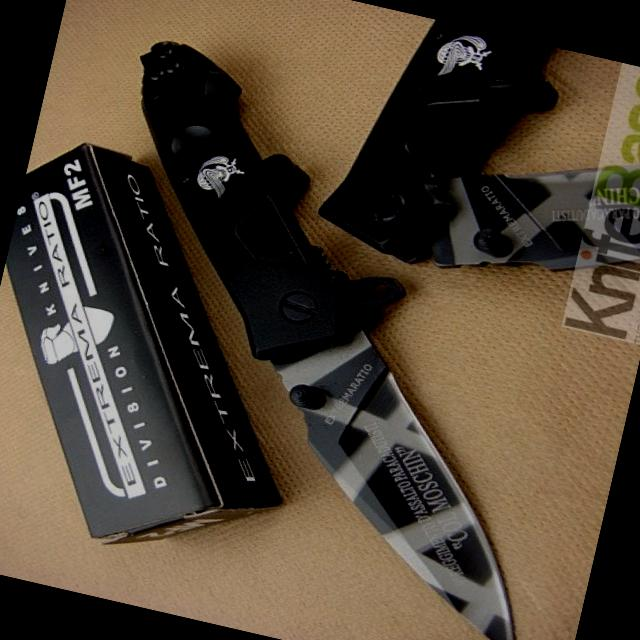knife: (209, 302, 592, 639)
